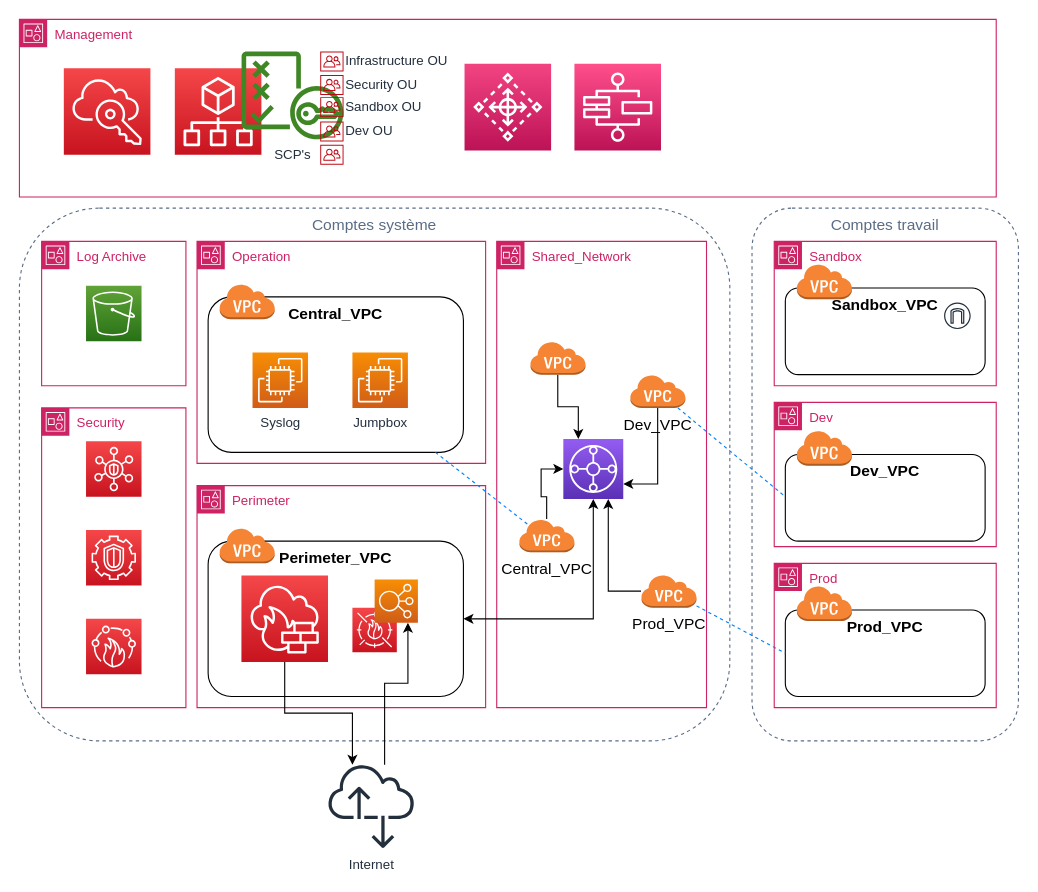
This 1038x892 diagram has some shape labels left out. Here are the shapes that lost their labels. From the top down, the centre of each, then its label:
At (106,111): "AWS SSO".
At (217,111): "Organization".
At (507,106): "Control Tower".
At (617,106): "State Machine".
At (331,154): "Prod OU".
At (113,313): "S3 - Immutable".
At (957,315): "Internet gateway".
At (557,357): "Endpoint_VPC".
At (113,468): "Security Hub".
At (113,557): "Guardduty".
At (284,618): "AWS Firewall".
At (396,600): "ALB".
At (113,646): "Firewall manager".
At (374,629): "WAF".
